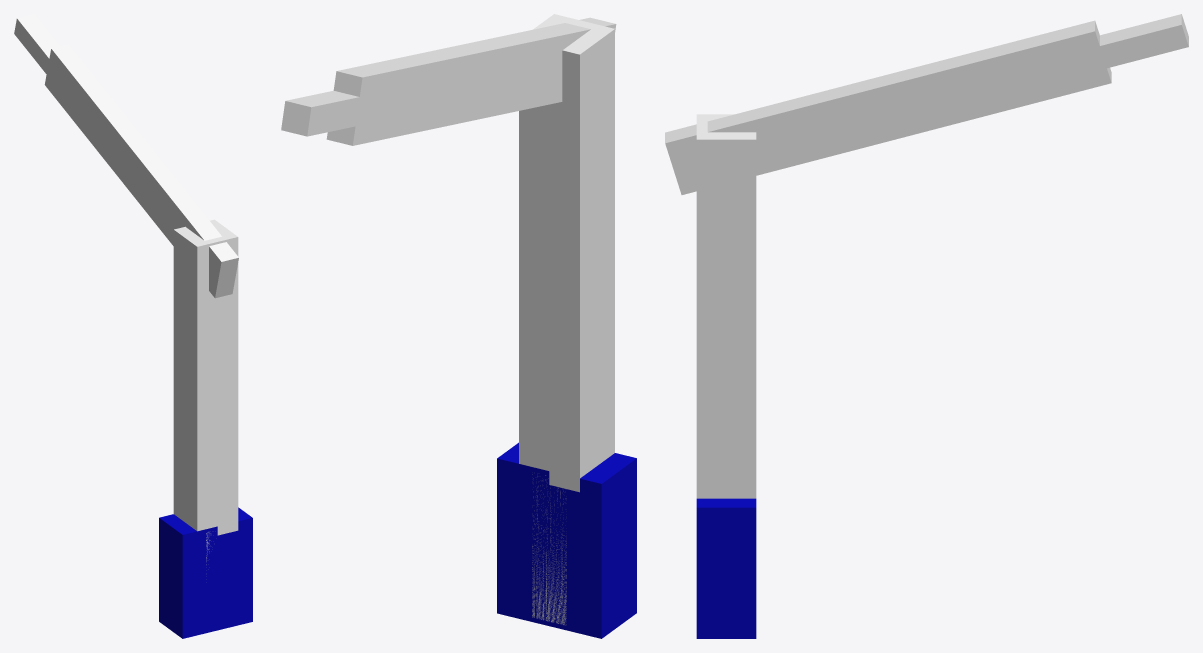
Rendered from arm_basic_link.dae.
3 views of the same model, side by side, from view 1: azimuth 30°, elevation 25°; view 2: azimuth 150°, elevation 25°; view 3: azimuth 270°, elevation 25° (orthographic). The views are drawn at different scales.
Visible parts, largest first — view 1: link1, base_link, link2, link3, link4; view 2: link1, base_link, link2, link3, link4, bl; view 3: link1, link2, base_link, link3, link4.
Part boxes in pixels (x1=…): link1: x1=173, y1=219, x2=238, y2=535; base_link: x1=159, y1=507, x2=252, y2=638; link2: x1=77, y1=83, x2=238, y2=298; link3: x1=44, y1=44, x2=99, y2=124; link4: x1=14, y1=14, x2=59, y2=73; link1: x1=519, y1=14, x2=614, y2=492; base_link: x1=497, y1=442, x2=636, y2=638; link2: x1=382, y1=17, x2=616, y2=135; link3: x1=326, y1=61, x2=408, y2=145; link4: x1=281, y1=90, x2=359, y2=136; bl: x1=532, y1=474, x2=566, y2=625; link1: x1=696, y1=114, x2=756, y2=498; link2: x1=665, y1=41, x2=1033, y2=194; base_link: x1=696, y1=498, x2=756, y2=638; link3: x1=1013, y1=20, x2=1111, y2=103; link4: x1=1100, y1=14, x2=1188, y2=68.
Bounding box in the file's own units: 0.12 × 0.6145 × 0.7742.
